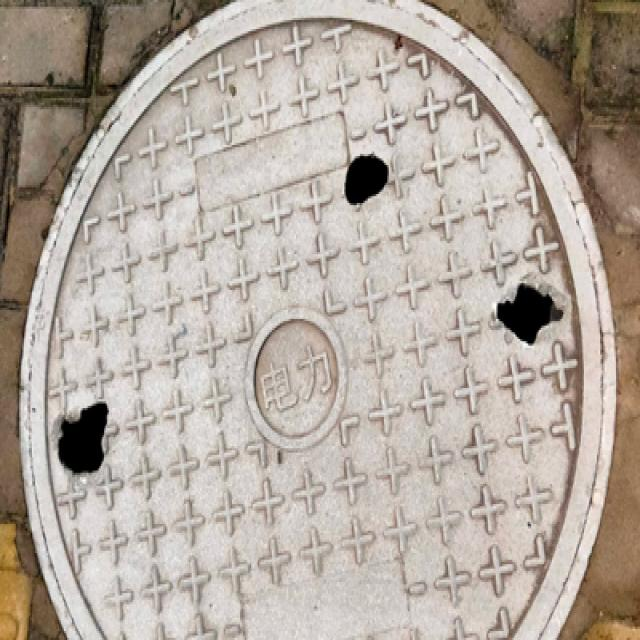manhole: (12, 2, 610, 638)
